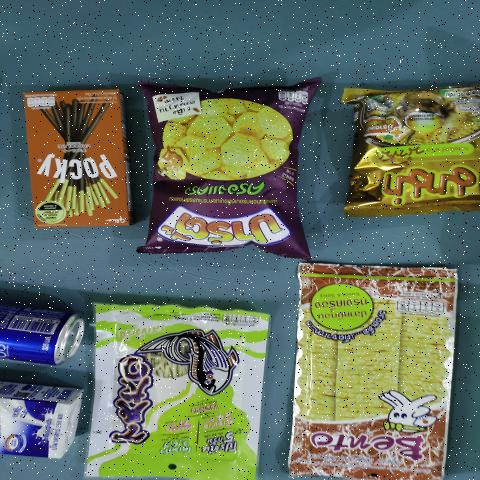bento_red: (308, 264, 440, 476)
mama: (350, 88, 480, 218)
party_purple: (154, 95, 289, 244)
pokki: (28, 91, 127, 222)
taro_yellow: (110, 316, 249, 473)
